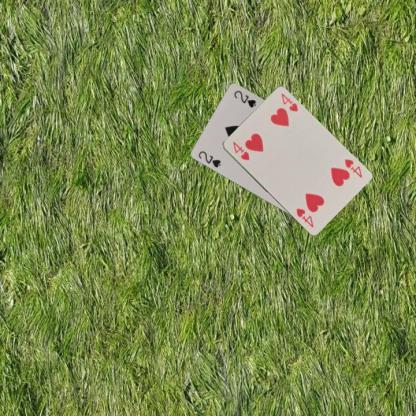2s: (196, 148, 222, 168)
4h: (342, 156, 364, 179), (230, 138, 251, 162)
